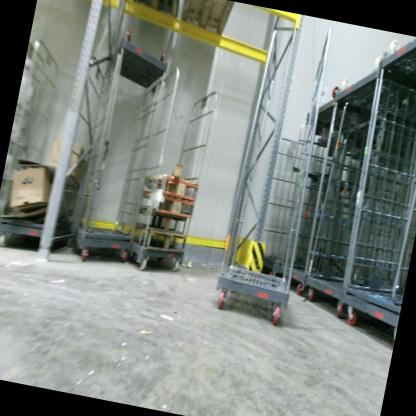pallet: (121, 218, 189, 260), (174, 0, 234, 46), (130, 198, 194, 240), (136, 180, 198, 220), (139, 167, 200, 206), (125, 0, 184, 23)
